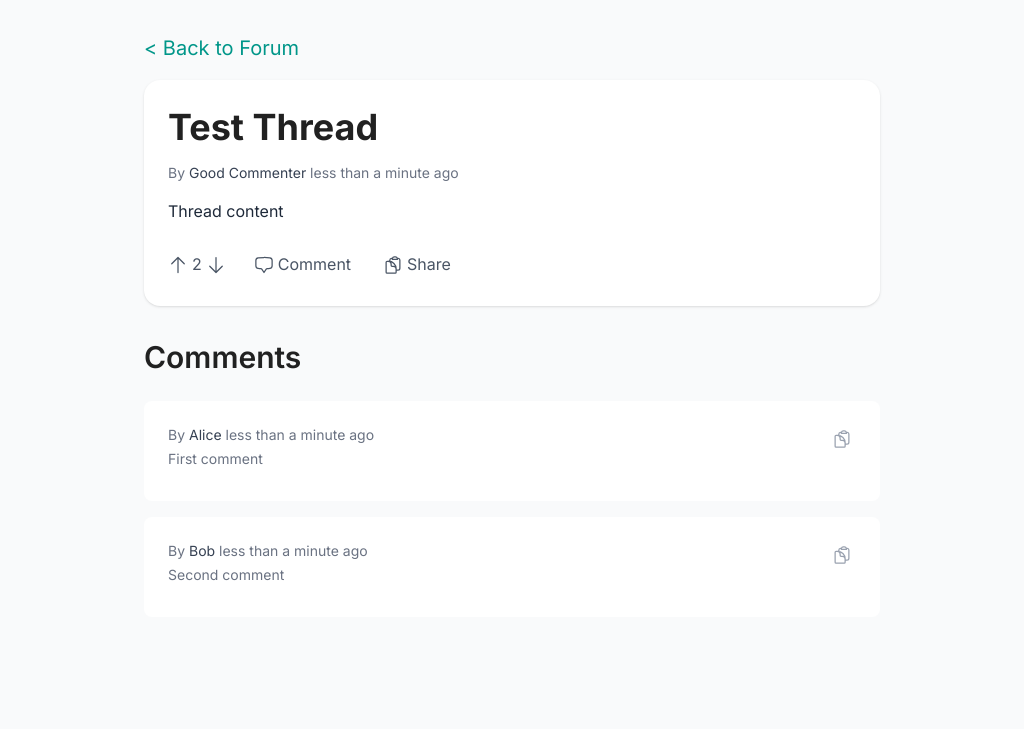
Test: ThreadDetail: Integration test cases › posts a new comment and refreshes
The image size is (1024, 729).
Expected: the heading "Test Thread" is shown, 168,105 -> 378,149
Step 1. Click the button with aria-label "add comment" → [302, 265], box 254,252 -> 351,278
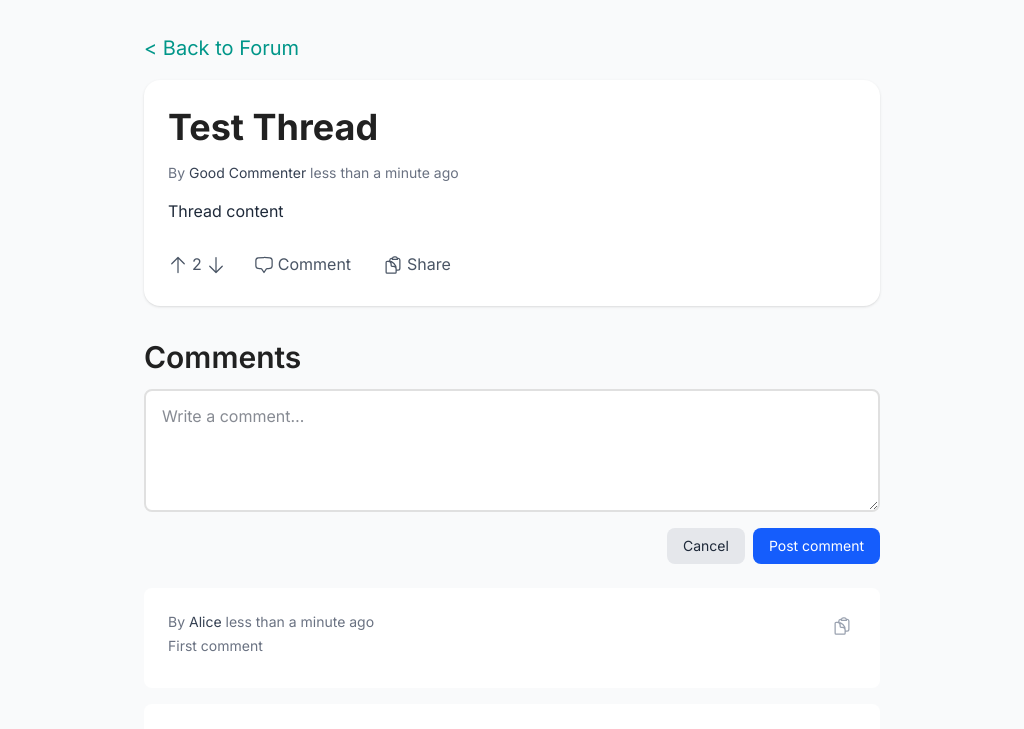
Step 2. Type "A new comment" into the text box with placeholder "Write a comment…" → [512, 451], box 144,389 -> 880,512
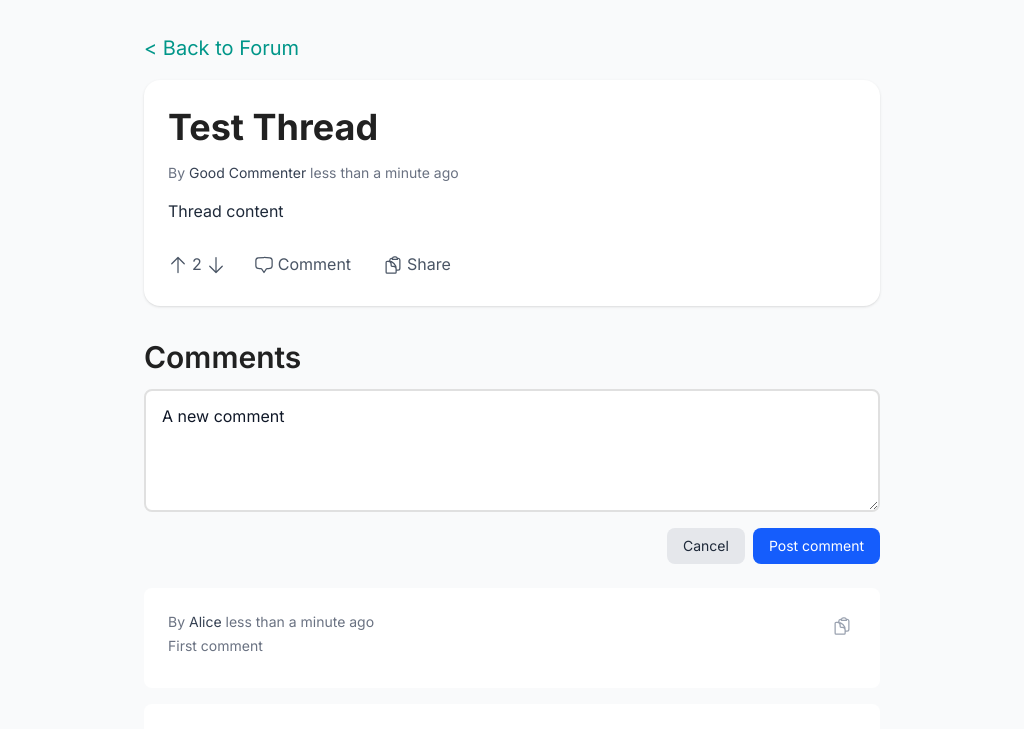
Step 3. Click the button "Post comment" → [816, 546], box 753,528 -> 880,564
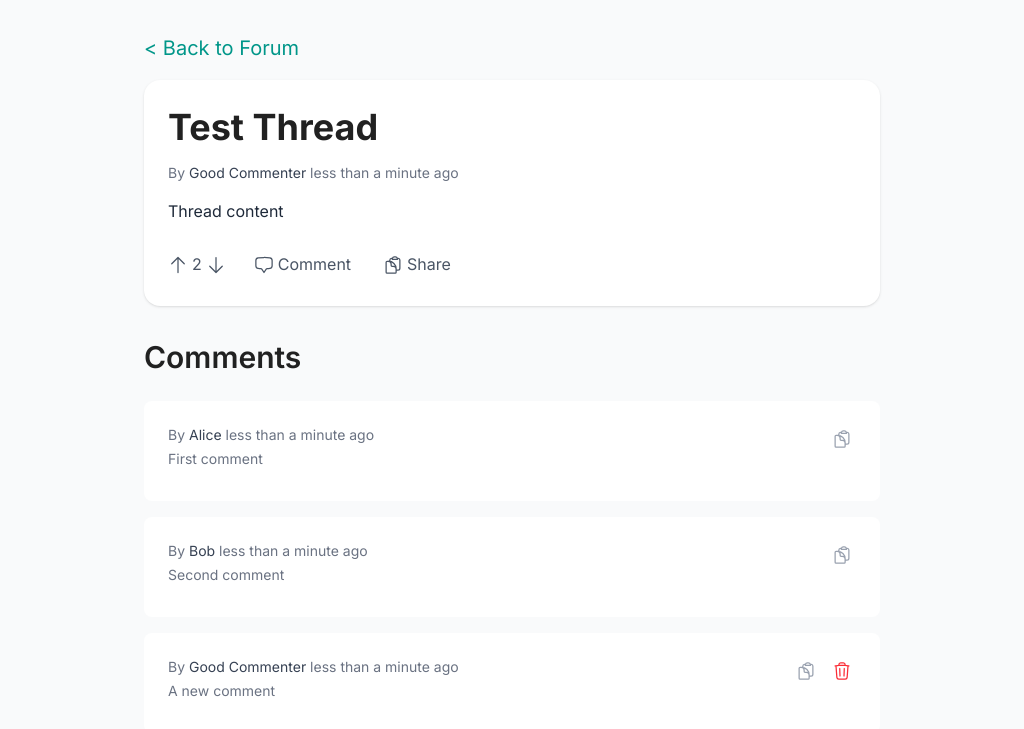
Expected: the field with placeholder "Write a comment" is not shown
Now the text "A new comment" is shown, box 168,682 -> 275,699
